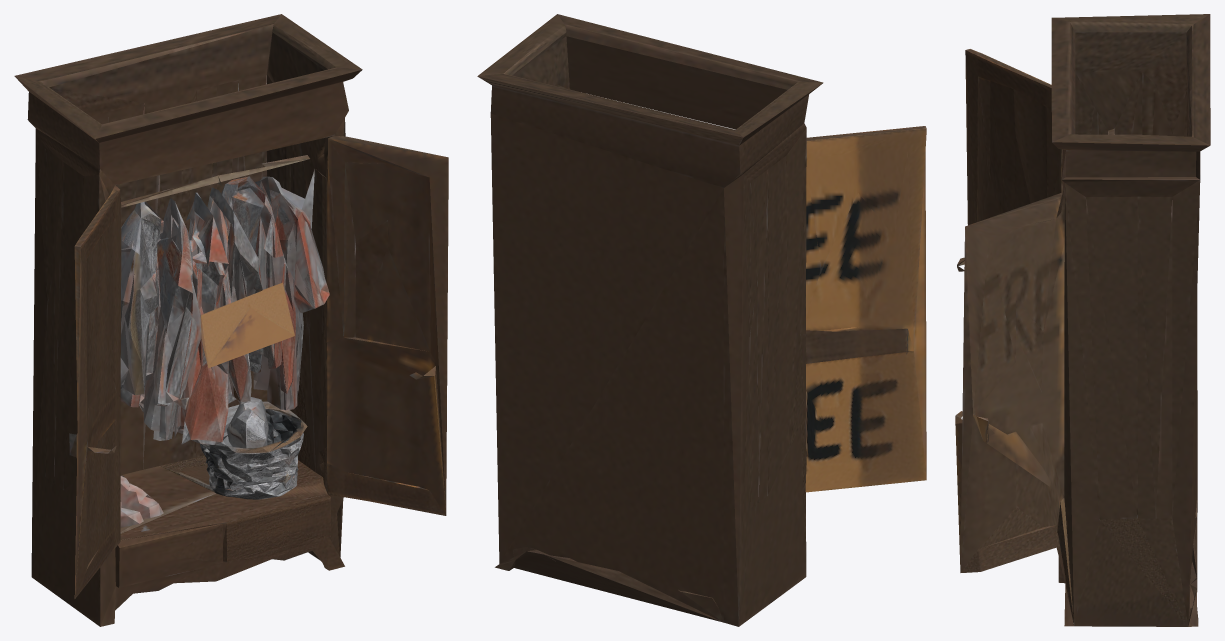
3 views of the same model, side by side, from view 1: azimuth 30°, elevation 25°; view 2: azimuth 150°, elevation 25°; view 3: azimuth 270°, elevation 25° (orthographic).
Size of the model in its own units: 1.49 by 1.9 by 0.8968.
Materials: 1 (1 with a texture image).
